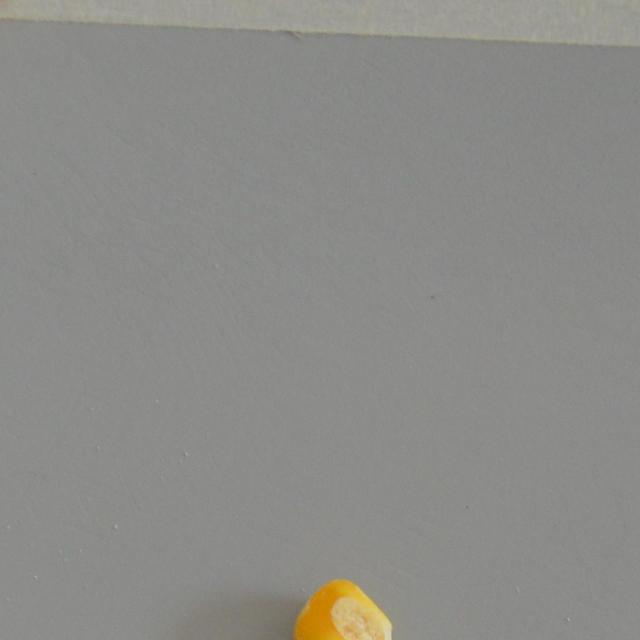no_desgerminado: (286, 574, 395, 640)
